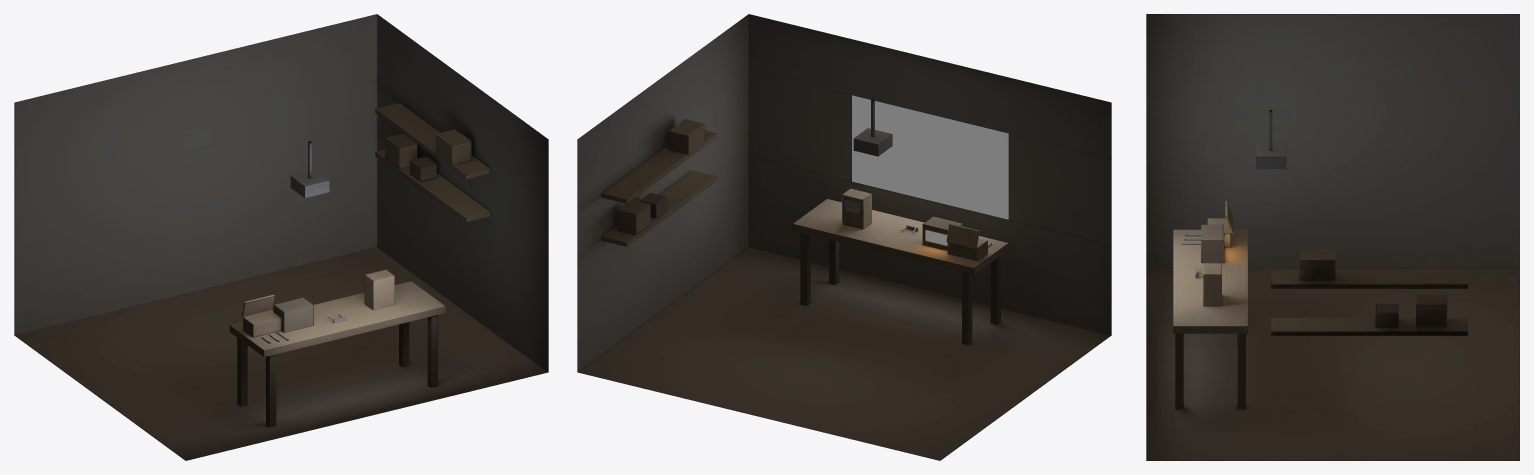
File: hub.glb
3 renders of one model, left to right at view 1: azimuth 30°, elevation 25°; view 2: azimuth 150°, elevation 25°; view 3: azimuth 270°, elevation 25°, orthographic. The views are drawn at different scales.
Visible parts, largest first — view 1: CH_hub_static, GATE_clock, GATE_radio, GATE_toolbox; view 2: CH_hub_static, GATE_clock, GATE_radio, GATE_toolbox; view 3: CH_hub_static, GATE_radio, GATE_clock.
Boxes of the visible parts, x1,y1,x2,y2 form: CH_hub_static: (14,14,548,460); GATE_clock: (364,269,394,310); GATE_radio: (273,297,313,332); GATE_toolbox: (243,310,281,337); CH_hub_static: (577,14,1111,460); GATE_clock: (842,188,871,229); GATE_radio: (922,216,962,250); GATE_toolbox: (947,238,987,260); CH_hub_static: (1146,14,1519,460); GATE_radio: (1201,224,1223,262); GATE_clock: (1203,263,1221,306).
Size of the model in its own units: 4.4 by 2.7 by 3.66.
1 material, 1 textured.
